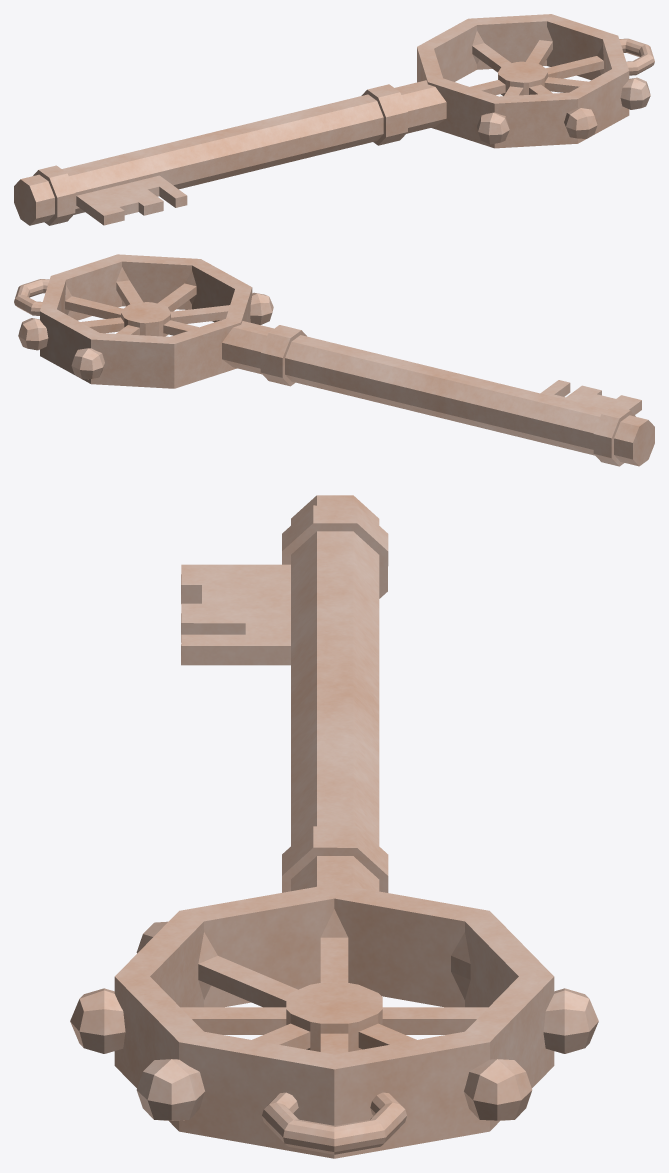
File: Key7.fbx
3 renders of one model, top to bottom at view 1: azimuth 30°, elevation 25°; view 2: azimuth 150°, elevation 25°; view 3: azimuth 270°, elevation 25°, orthographic. The views are drawn at different scales.
Parts seen in each view (by area): view 1: Key7; view 2: Key7; view 3: Key7.
Boxes of the visible parts, <box> form: Key7: <box>14,14,654,225</box>; Key7: <box>14,254,654,466</box>; Key7: <box>70,495,598,1158</box>.
Bounding box in the file's own units: 63.25 × 4.65 × 23.13.
